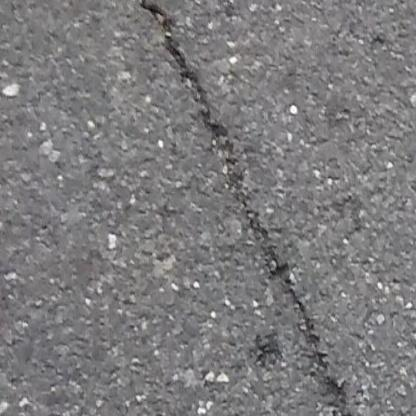Cracks: (123, 0, 363, 416)
